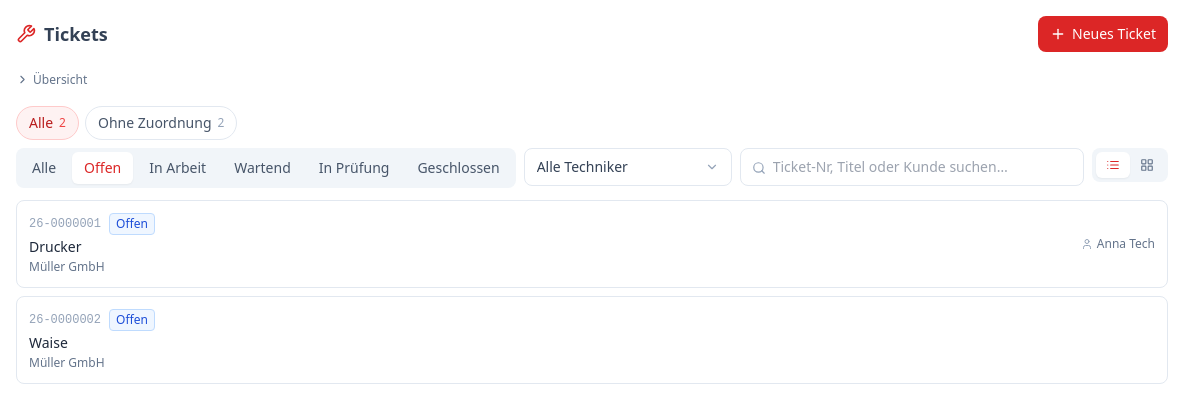
Test case: TicketsPage › filters tickets by assignee (Nicht zugewiesen)
Expected: the text "Drucker" is shown, [29, 236, 82, 256]
Expected: the number of list items with test id "ticket-row" is 2, [16, 200, 1168, 288]; [16, 296, 1168, 384]
Click the button with aria-label "Nach Zuweisung filtern" at (628, 166), box [524, 148, 732, 186]
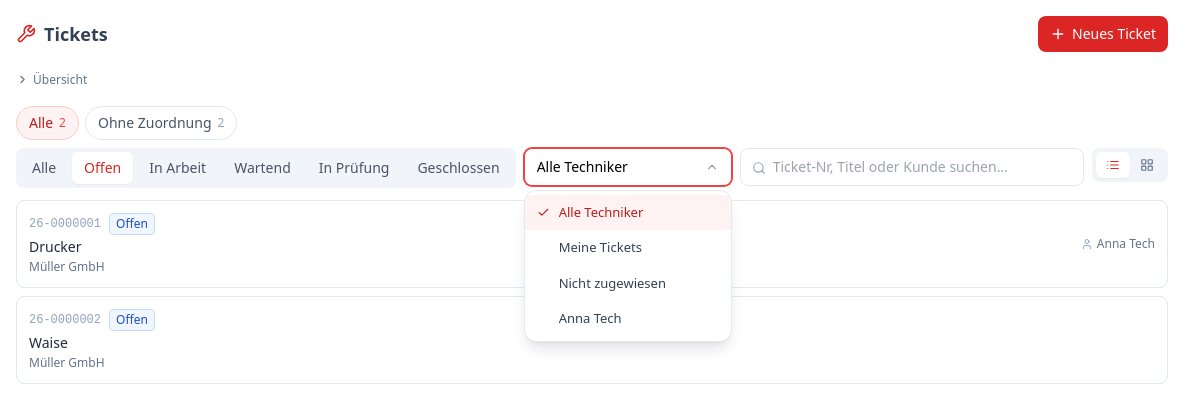
Click the option "Nicht zugewiesen" at (628, 283), box [525, 266, 731, 301]
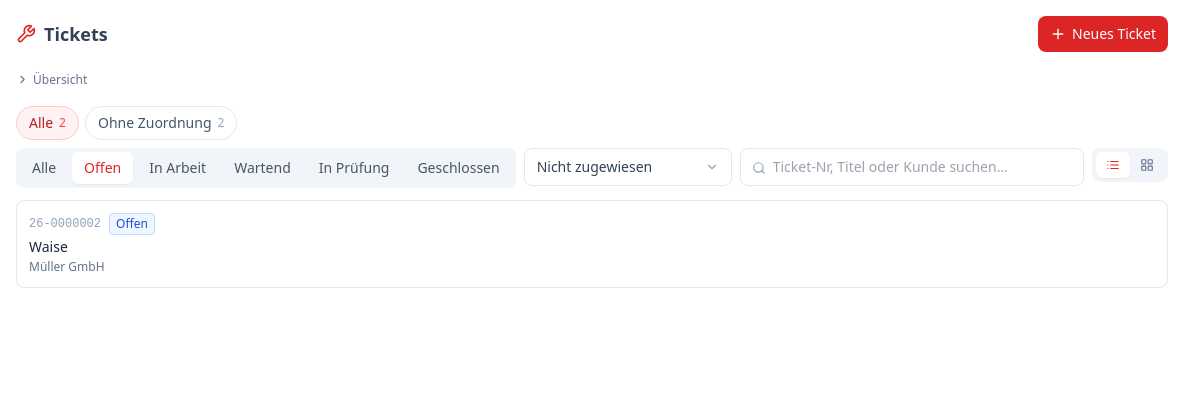
Expected: the text "Waise" is shown, [29, 236, 68, 256]
Now the number of list items with test id "ticket-row" is 1, box [16, 200, 1168, 288]
Now the text "Drucker" is gone
